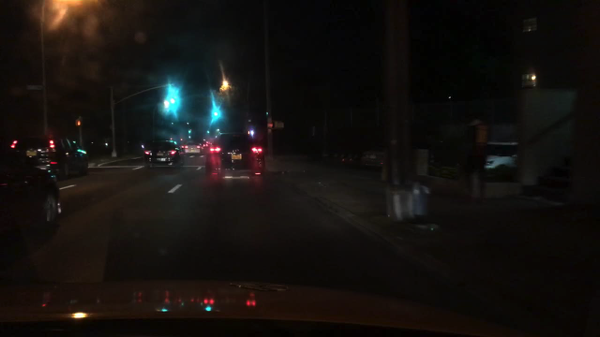car: (0, 150, 63, 243), (8, 135, 91, 180), (205, 130, 267, 178), (474, 138, 520, 178), (142, 139, 184, 165), (427, 152, 459, 178), (354, 144, 387, 165), (181, 140, 201, 156)
traffic light: (210, 105, 220, 120), (169, 92, 177, 109), (272, 121, 285, 129), (74, 120, 80, 127)
traffic sign: (27, 86, 42, 91)
